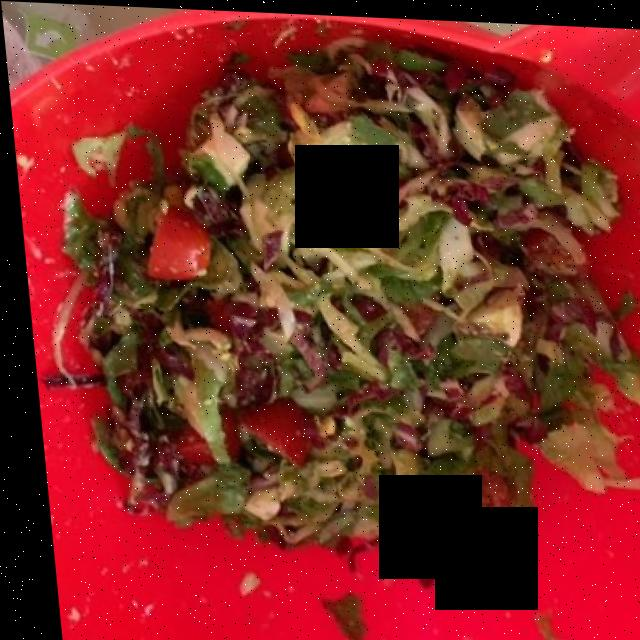mixed-salad-chopped-without-sauce: (51, 62, 640, 545)
